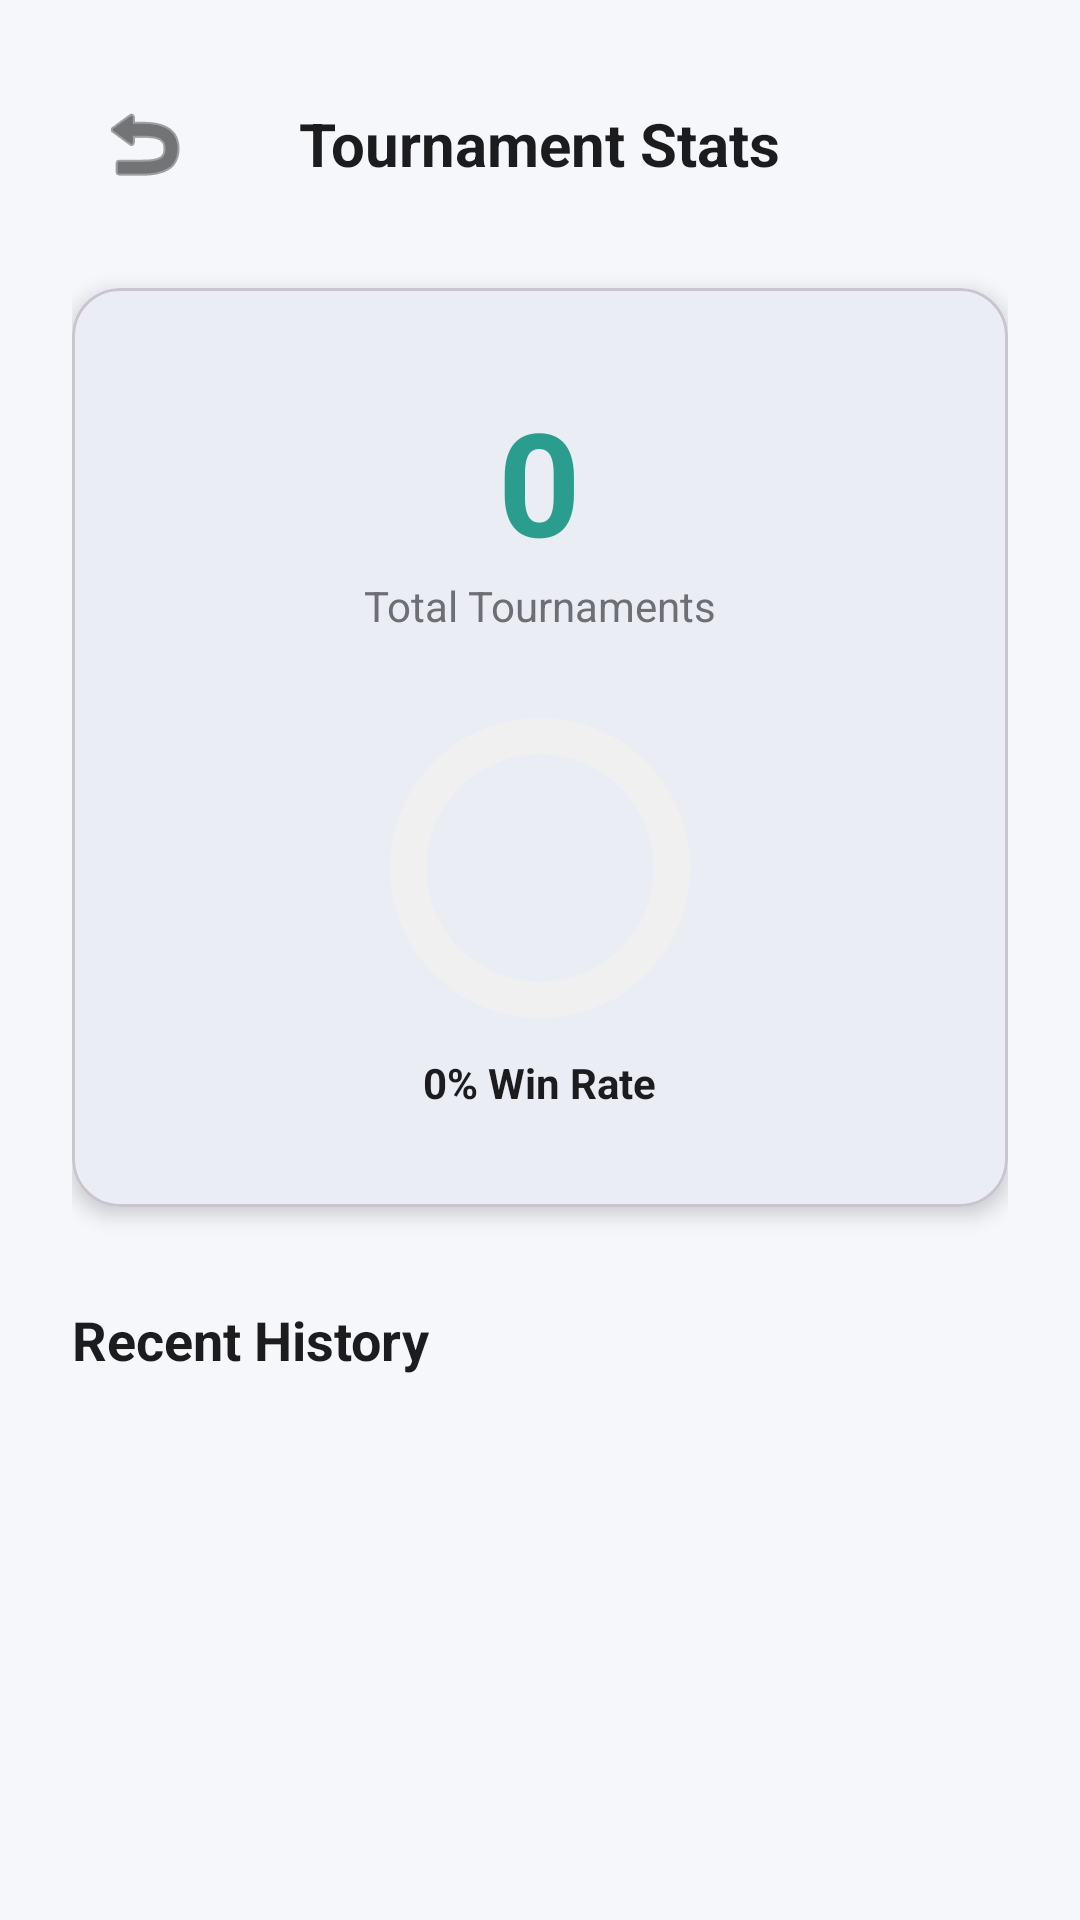

Screen size 1080 x 1920. Icon name, then its box in pixels as {"x1": x1, "y1": y1, "x2": x2, "y2": y2}:
revert: {"x1": 111, "y1": 113, "x2": 180, "y2": 176}
